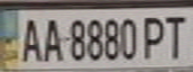0: (118, 15, 142, 61)
8: (63, 15, 87, 62), (84, 15, 106, 62), (103, 15, 124, 61)
A: (15, 14, 45, 63), (39, 15, 63, 63)
P: (139, 12, 172, 61)
T: (160, 11, 193, 60)
